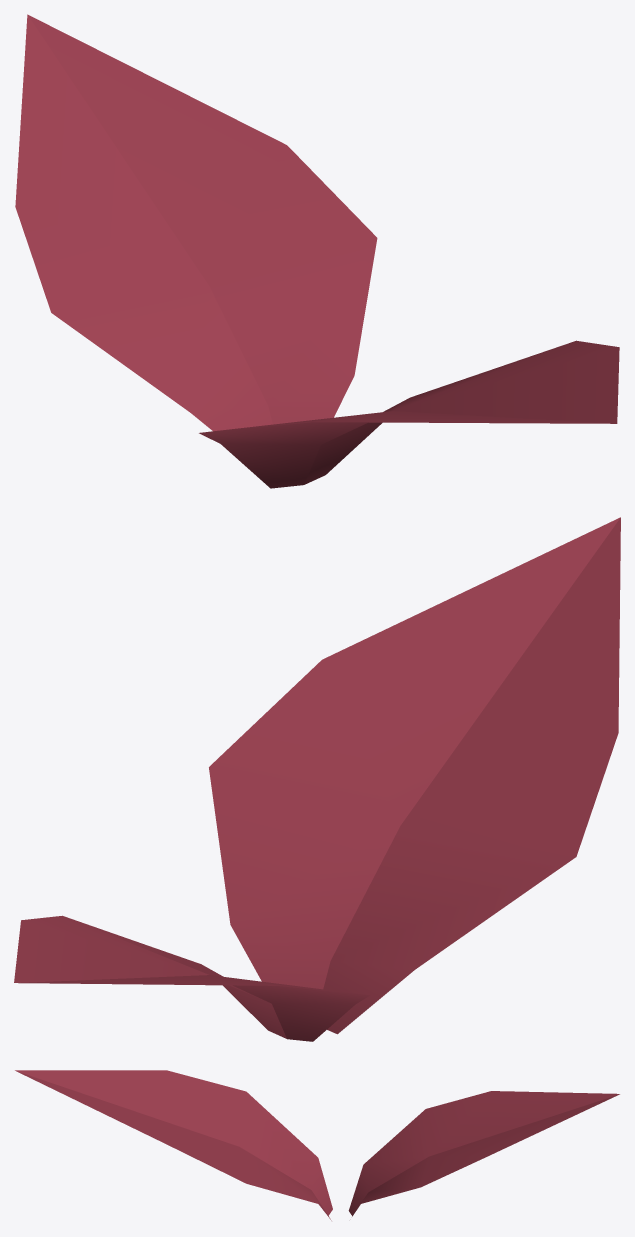
Rendered from SM_Blooddrop_Growing1.fbx.
3 renders of one model, top to bottom at view 1: azimuth 30°, elevation 25°; view 2: azimuth 150°, elevation 25°; view 3: azimuth 270°, elevation 25°, orthographic. The views are drawn at different scales.
Visible parts, largest first — view 1: SM_Blooddrop_Growing1; view 2: SM_Blooddrop_Growing1; view 3: SM_Blooddrop_Growing1.
Part boxes in pixels (left/top/right/bottom): SM_Blooddrop_Growing1: left=15, top=14, right=619, bottom=488; SM_Blooddrop_Growing1: left=14, top=517, right=620, bottom=1041; SM_Blooddrop_Growing1: left=15, top=1070, right=619, bottom=1220.
Size of the model in its own units: 10.33 by 7.61 by 28.72.
